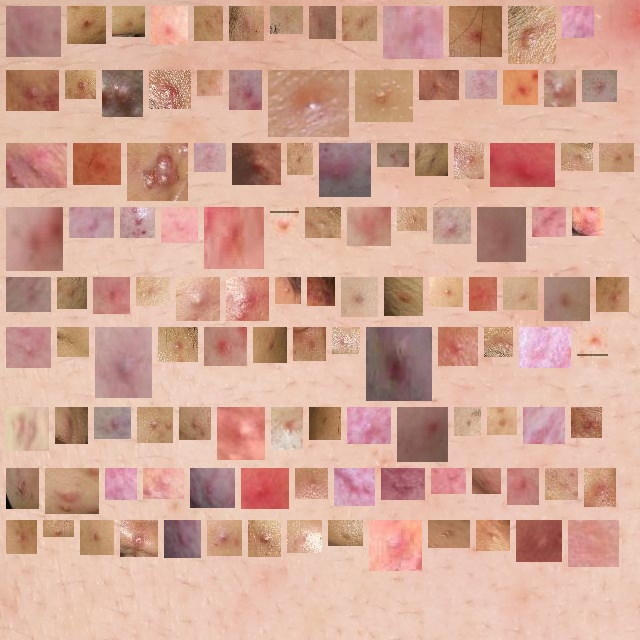papule: (276, 78, 341, 129), (374, 335, 424, 393), (103, 335, 144, 390), (212, 215, 256, 261), (14, 215, 55, 263), (135, 151, 180, 193), (391, 14, 435, 51), (363, 78, 405, 114), (498, 151, 547, 179), (327, 151, 363, 189), (14, 14, 53, 49), (405, 415, 440, 454), (516, 14, 548, 56), (14, 151, 59, 180), (457, 14, 494, 49), (377, 528, 414, 563), (485, 215, 518, 254), (225, 415, 257, 452), (53, 476, 91, 506), (576, 528, 611, 559), (14, 78, 51, 103), (527, 335, 563, 360), (240, 151, 273, 177), (552, 285, 582, 313), (81, 151, 113, 177), (249, 476, 281, 501), (184, 285, 212, 313), (524, 528, 554, 554), (110, 78, 135, 109), (234, 285, 261, 313), (14, 415, 41, 443), (14, 335, 43, 360), (198, 476, 227, 500), (355, 215, 383, 238), (212, 335, 239, 358), (157, 78, 183, 101), (355, 415, 383, 436), (446, 335, 470, 358), (14, 285, 43, 304), (342, 476, 367, 498), (531, 415, 557, 436), (392, 285, 415, 308), (75, 14, 98, 36), (349, 285, 370, 309), (159, 14, 180, 37), (441, 215, 463, 236), (128, 528, 150, 549), (172, 528, 193, 550), (166, 335, 190, 354), (389, 476, 417, 492), (101, 285, 122, 306), (77, 215, 106, 230), (279, 415, 295, 442), (14, 476, 31, 501), (169, 215, 190, 235), (237, 78, 254, 102), (145, 415, 165, 435), (215, 528, 234, 548), (151, 476, 176, 491), (592, 476, 608, 499), (237, 14, 256, 33), (350, 14, 369, 33), (511, 78, 530, 97), (261, 335, 279, 355), (63, 415, 80, 436), (256, 528, 273, 549), (88, 528, 106, 547), (427, 78, 451, 92), (552, 78, 568, 99), (102, 415, 123, 431), (515, 476, 531, 497), (511, 285, 530, 302), (604, 285, 621, 304), (295, 528, 314, 545), (336, 528, 355, 545), (436, 528, 462, 540), (301, 335, 318, 353), (590, 78, 609, 94), (313, 215, 333, 230), (423, 151, 440, 168), (128, 215, 147, 230), (462, 151, 476, 171), (187, 415, 203, 432), (317, 415, 333, 432), (553, 476, 570, 492), (14, 528, 29, 546), (484, 528, 502, 543), (570, 14, 586, 30), (113, 476, 129, 492), (120, 14, 137, 29), (303, 476, 320, 491), (540, 215, 558, 229), (437, 285, 455, 299), (202, 14, 215, 33), (607, 151, 626, 164), (144, 285, 162, 298), (585, 335, 600, 350), (579, 415, 594, 430), (65, 285, 79, 301), (65, 335, 81, 349), (477, 285, 489, 303), (473, 78, 489, 91), (202, 151, 218, 164), (278, 215, 291, 231), (580, 215, 596, 228), (278, 14, 295, 26), (73, 78, 88, 91), (569, 151, 585, 163), (439, 476, 458, 486), (317, 14, 328, 31), (492, 335, 505, 349), (385, 151, 401, 162), (495, 415, 509, 427), (295, 151, 305, 167), (315, 285, 327, 298), (462, 415, 473, 428), (340, 335, 352, 346), (480, 476, 493, 486), (51, 528, 66, 536), (405, 215, 419, 223), (283, 285, 293, 296), (205, 78, 215, 88)
